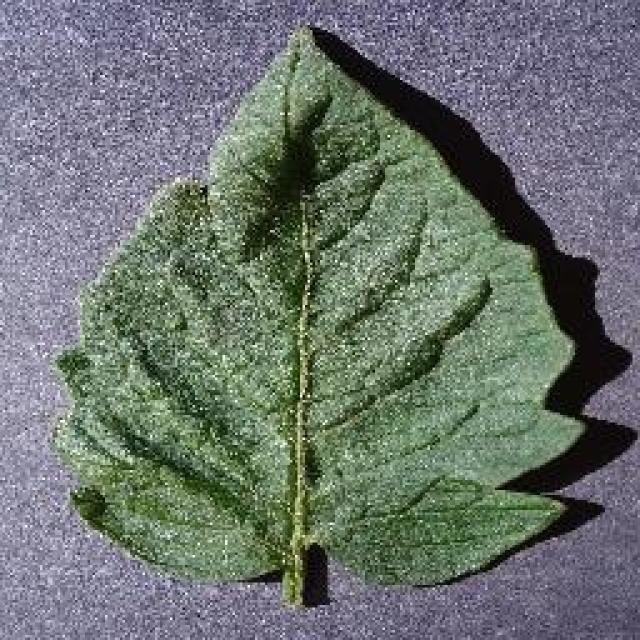Tomato_Healthy: (67, 29, 597, 588)
